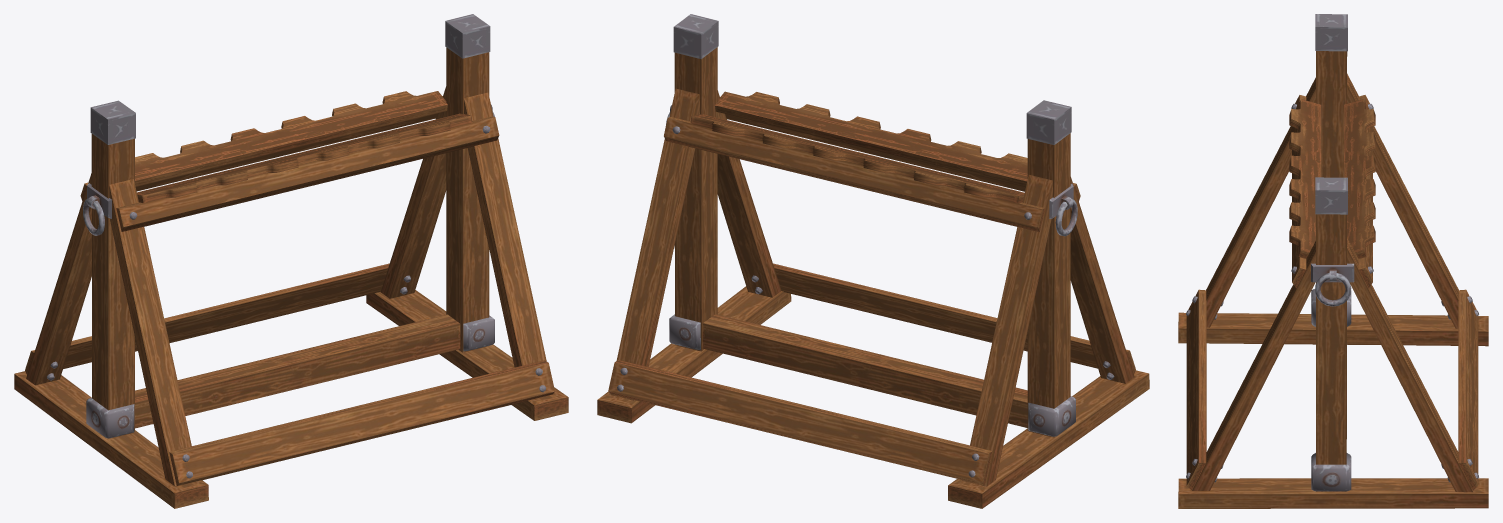
File: WeaponStand.gltf
3 views of the same model, side by side, from view 1: azimuth 30°, elevation 25°; view 2: azimuth 150°, elevation 25°; view 3: azimuth 270°, elevation 25° (orthographic). The views are drawn at different scales.
Parts seen in each view (by area): view 1: WeaponStand; view 2: WeaponStand; view 3: WeaponStand.
Part boxes in pixels (x1,y1,x2,y2): WeaponStand: [14, 14, 568, 508]; WeaponStand: [597, 14, 1149, 508]; WeaponStand: [1178, 14, 1488, 508].
Bounding box in the file's own units: 1.39 × 1.11 × 0.9831.
2 materials, 2 textured.
